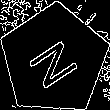N_NE: (23, 29, 85, 90)
